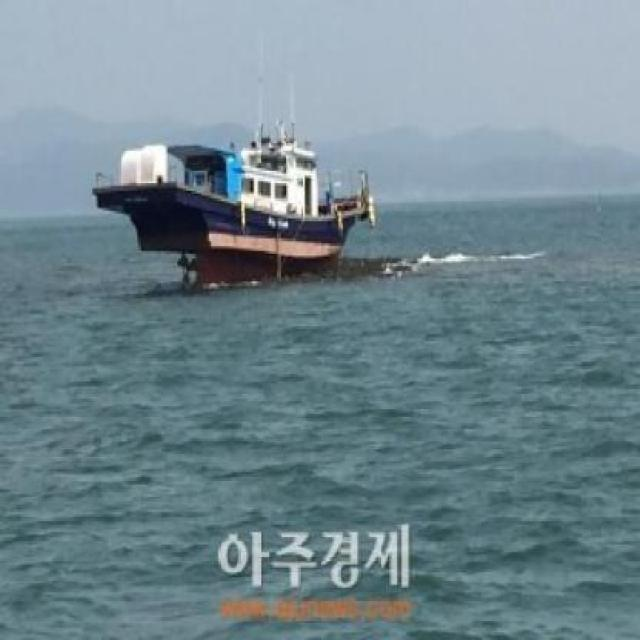fish-b: (82, 124, 382, 293)
